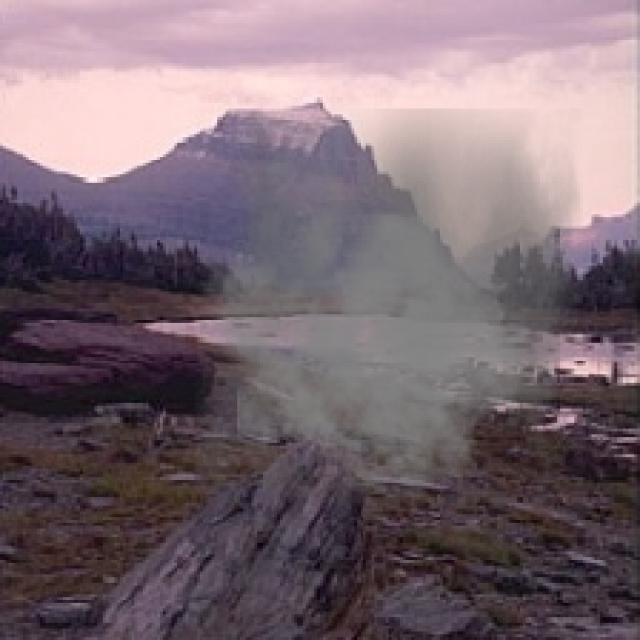Smoke: (194, 108, 583, 503)
